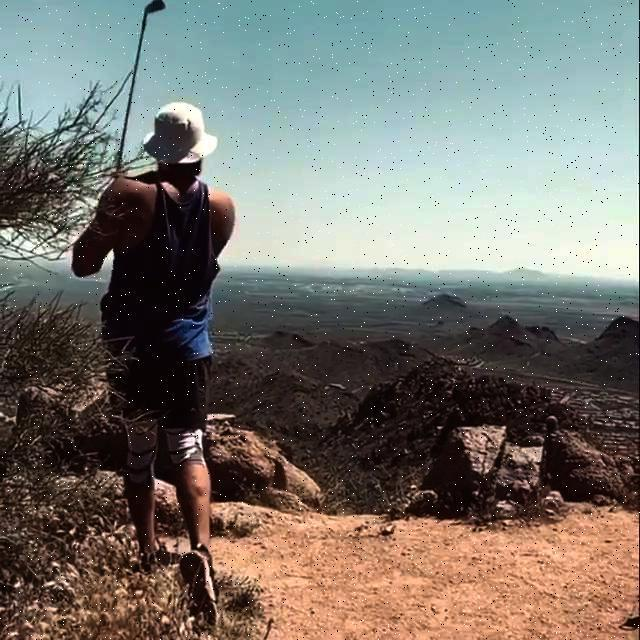ClubHead: (144, 0, 167, 13)
